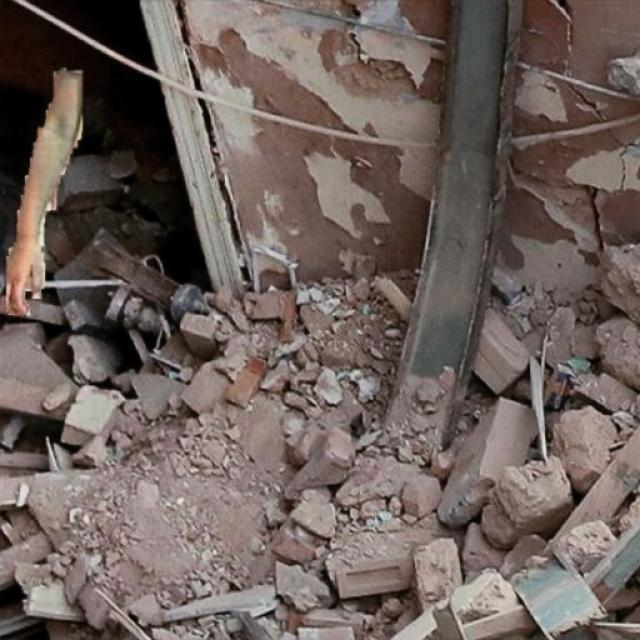Person in Rubble: (7, 68, 82, 316)
